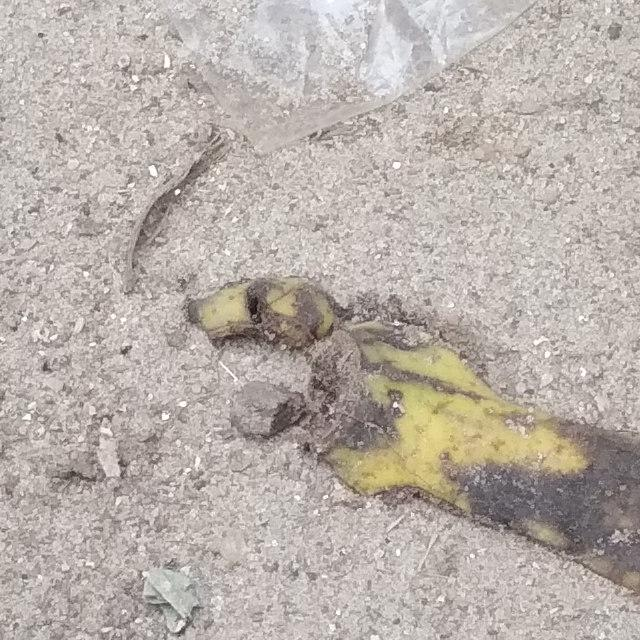food_waste: (194, 0, 640, 640), (0, 58, 378, 640)
